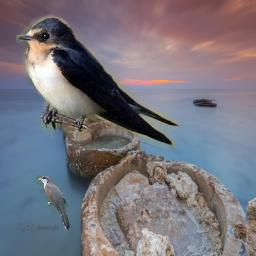Cuckoo: (36, 175, 71, 231)
Swallow: (16, 14, 179, 151)
